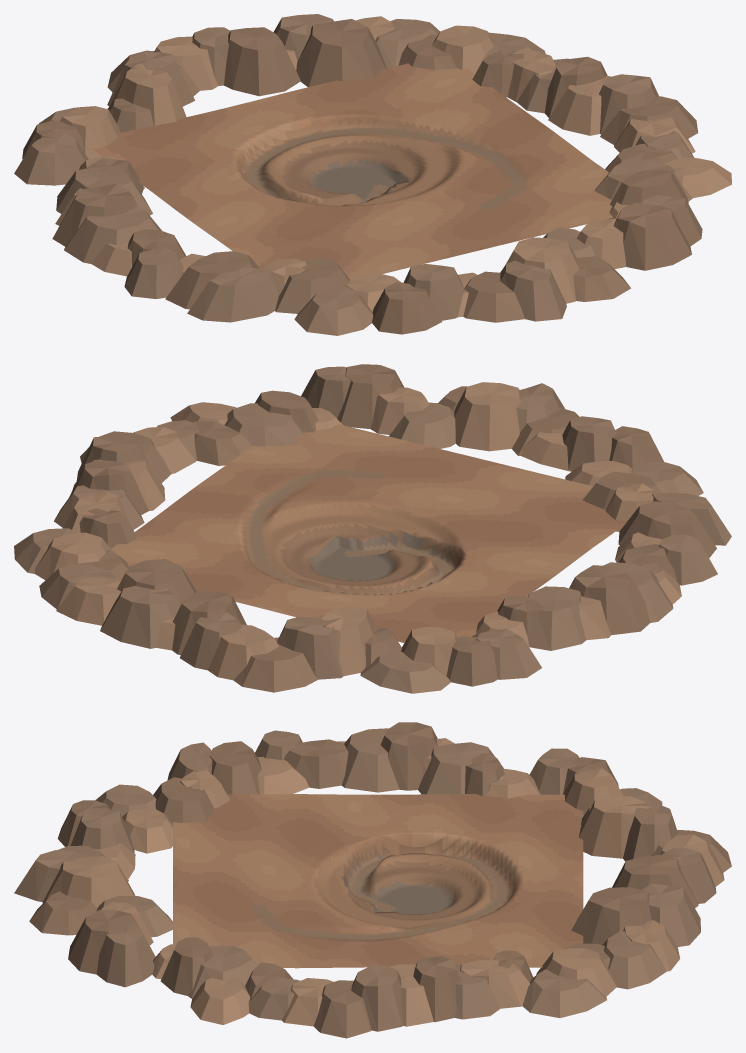
Rendered from terrain.glb.
The picture shows the model from 3 angles, top to bottom: view 1: azimuth 30°, elevation 25°; view 2: azimuth 150°, elevation 25°; view 3: azimuth 270°, elevation 25°; orthographic projection. The views are drawn at different scales.
Size of the model in its own units: 803 by 65.81 by 840.
